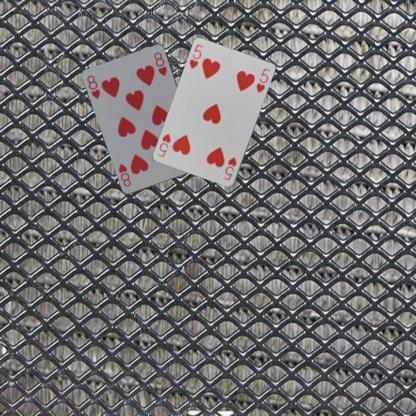5h: (187, 42, 204, 71), (221, 154, 238, 182)
8h: (84, 73, 102, 100)
